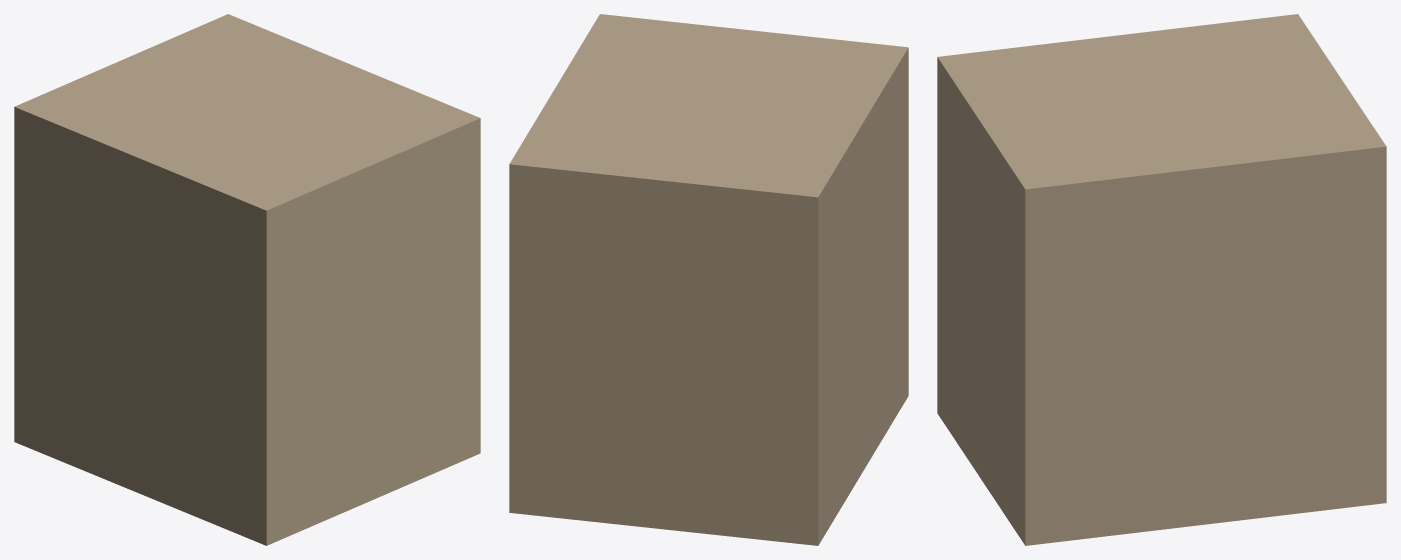
File: bld_99867743.dae
3 renders of one model, left to right at view 1: azimuth 30°, elevation 25°; view 2: azimuth 150°, elevation 25°; view 3: azimuth 270°, elevation 25°, orthographic. The views are drawn at different scales.
Visible parts, largest first — view 1: bld_99867743; view 2: bld_99867743; view 3: bld_99867743.
Boxes of the visible parts, <box> form: bld_99867743: <box>14,14,480,545</box>; bld_99867743: <box>509,14,908,545</box>; bld_99867743: <box>937,14,1386,545</box>.
Size of the model in its own units: 8.45 by 9.14 by 8.
